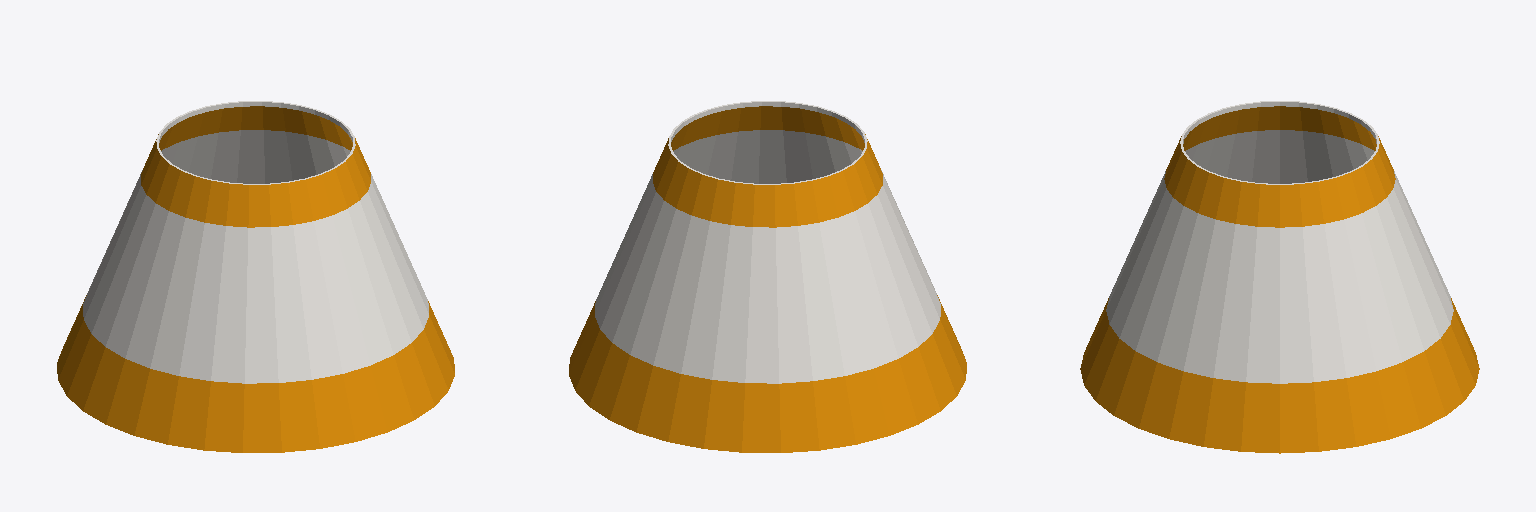
The picture shows the model from 3 angles: view 1: azimuth 30°, elevation 25°; view 2: azimuth 150°, elevation 25°; view 3: azimuth 270°, elevation 25°; orthographic projection.
Parts seen in each view (by area): view 1: Lampshade; view 2: Lampshade; view 3: Lampshade.
Boxes of the visible parts, x1,y1,x2,y2 form: Lampshade: [57, 101, 454, 452]; Lampshade: [569, 101, 966, 452]; Lampshade: [1080, 101, 1479, 453].
Size of the model in its own units: 1.25 by 0.7801 by 1.25.
2 materials, 2 textured.